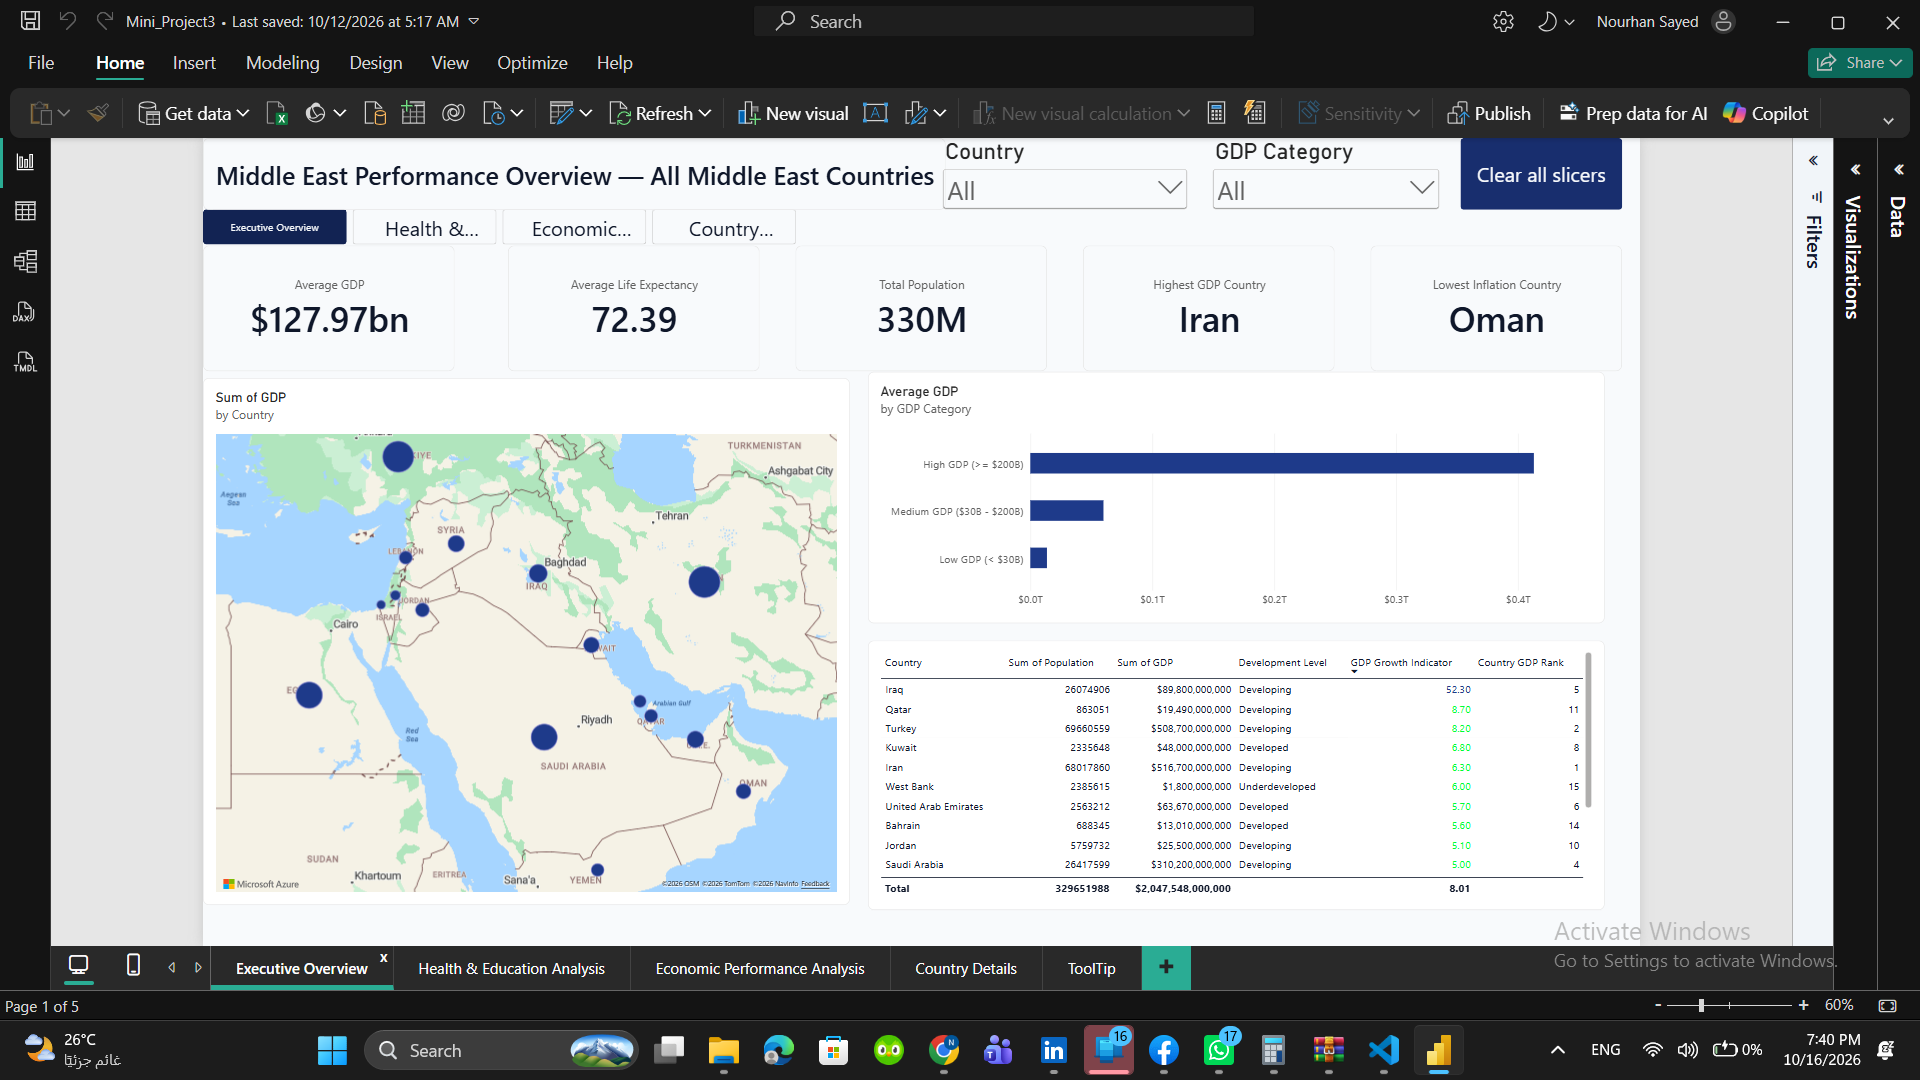

The page's visual inventory and layout, read from the dashboard file:
{"tool":"powerbi","page":{"name":"Executive Overview","canvas":[1920,1080],"ordinal":0},"visuals":[{"type":"textbox","box":[0,0,1920,72],"z":0},{"type":"cardVisual","fields":{"Data":["Metrics.Average GDP"]},"box":[0,144,336,168],"z":1000},{"type":"cardVisual","fields":{"Data":["Metrics.Average Life Expectancy"]},"box":[408,144,336,168],"z":2000},{"type":"cardVisual","fields":{"Data":["Metrics.Total Population"]},"box":[792,144,336,168],"z":3000},{"type":"cardVisual","fields":{"Data":["Metrics.Highest GDP Country"]},"box":[1176,144,336,168],"z":4000},{"type":"cardVisual","fields":{"Data":["Metrics.Lowest Inflation Country"]},"box":[1560,144,336,168],"z":5000},{"type":"clusteredBarChart","fields":{"Category":["Country_Comparison.GDP Category","Country_Comparison.Country"],"Y":["Metrics.Average GDP"]},"box":[888,312,984,336],"z":7000},{"type":"tableEx","fields":{"Values":["Country_Comparison.Country","Sum(Country_Comparison.Population)","Sum(Country_Comparison.GDP)","Country_Comparison.Development Level","Metrics.GDP Growth Indicator","Metrics.Country GDP Rank"]},"box":[888,672,984,360],"z":8000},{"type":"slicer","fields":{"Values":["Country_Comparison.GDP Category"]},"box":[1344,0,312,120],"z":9000},{"type":"pageNavigator","box":[0,96,792,48],"z":11000},{"type":"actionButton","box":[1680,0,216,96],"z":12000},{"type":"cardVisual","fields":{"Data":["Metrics.Dynamic Dashboard Title"]},"box":[0,0,992,96],"z":13000},{"type":"slicer","fields":{"Values":["Country_Comparison.Country"]},"box":[984,0,336,120],"z":13500},{"type":"azureMap","fields":{"Category":["Country_Comparison.Country"],"Size":["Sum(Country_Comparison.GDP)"]},"box":[0,320,864,704],"z":13501}]}

Visuals, with their boxes on the page's 1920x1080 design canvas (x1, y1, x2, y2). These are canvas units, not pixel positions in the 1920x1080 screenshot, which may show the page scaled, cropped or inside an application window:
textbox: (0, 0, 1920, 72)
cardVisual - Metrics.Average GDP: (0, 144, 336, 312)
cardVisual - Metrics.Average Life Expectancy: (408, 144, 744, 312)
cardVisual - Metrics.Total Population: (792, 144, 1128, 312)
cardVisual - Metrics.Highest GDP Country: (1176, 144, 1512, 312)
cardVisual - Metrics.Lowest Inflation Country: (1560, 144, 1896, 312)
clusteredBarChart - Country_Comparison.GDP Category x Country_Comparison.Country: (888, 312, 1872, 648)
tableEx - Country_Comparison.Country x Sum(Country_Comparison.Population): (888, 672, 1872, 1032)
slicer - Country_Comparison.GDP Category: (1344, 0, 1656, 120)
pageNavigator: (0, 96, 792, 144)
actionButton: (1680, 0, 1896, 96)
cardVisual - Metrics.Dynamic Dashboard Title: (0, 0, 992, 96)
slicer - Country_Comparison.Country: (984, 0, 1320, 120)
azureMap - Country_Comparison.Country x Sum(Country_Comparison.GDP): (0, 320, 864, 1024)
